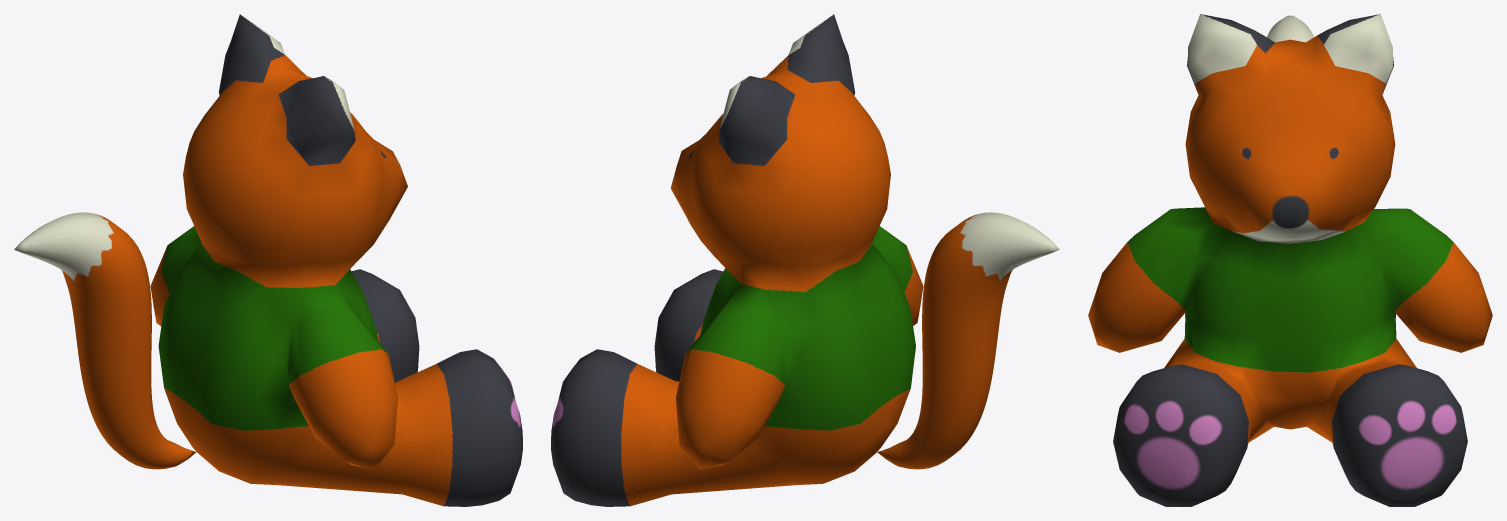
File: Souvenir19.glb
The picture shows the model from 3 angles, left to right: view 1: azimuth 30°, elevation 25°; view 2: azimuth 150°, elevation 25°; view 3: azimuth 270°, elevation 25°; orthographic projection. The views are drawn at different scales.
Visible parts, largest first — view 1: Main; view 2: Main; view 3: Main.
Part boxes in pixels (box(x1,y1,x2,y2)): Main: box(14, 14, 522, 506); Main: box(551, 14, 1059, 506); Main: box(1088, 14, 1492, 506).
Size of the model in its own units: 4.78 by 4.47 by 3.86.
1 material, 1 textured.
